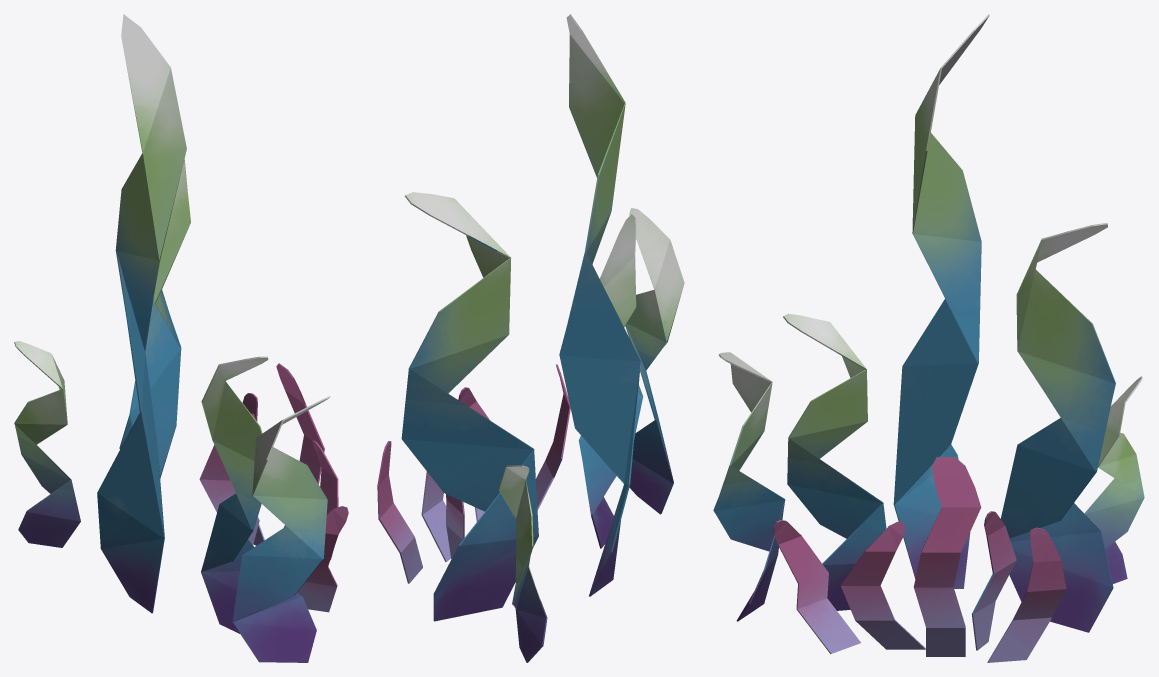
The model's file is weed.fbx.
The picture shows the model from 3 angles, left to right: view 1: azimuth 30°, elevation 25°; view 2: azimuth 150°, elevation 25°; view 3: azimuth 270°, elevation 25°; orthographic projection. The views are drawn at different scales.
Parts seen in each view (by area): view 1: Cube.006.frozen; view 2: Cube.006.frozen; view 3: Cube.006.frozen.
Boxes of the visible parts, x1,y1,x2,y2 form: Cube.006.frozen: [14, 14, 348, 662]; Cube.006.frozen: [377, 14, 684, 662]; Cube.006.frozen: [713, 14, 1144, 662].
Size of the model in its own units: 36.73 by 95.63 by 64.65.
1 material, 1 textured.
